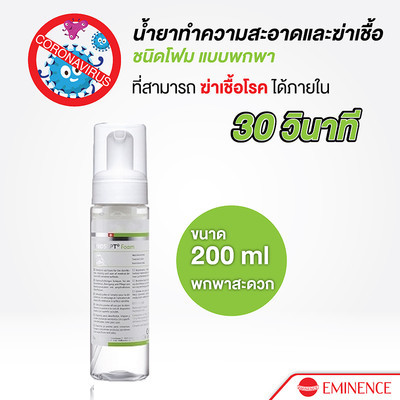Cleaning_solution: (88, 118, 152, 384)
